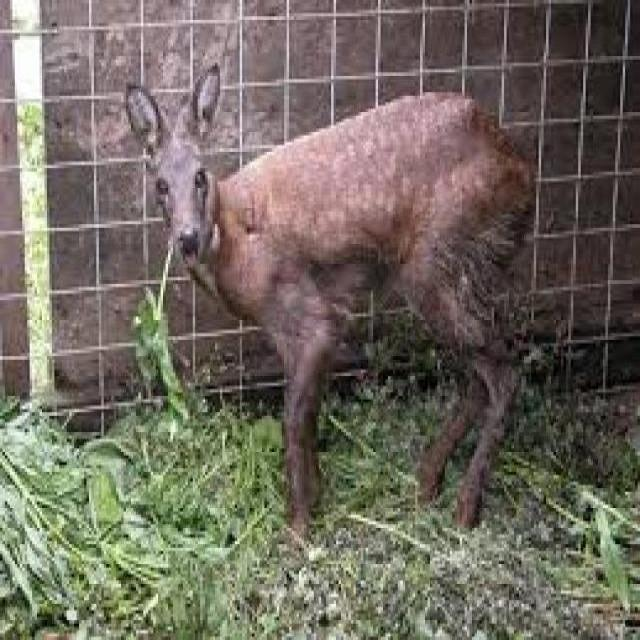deer: (116, 42, 554, 553)
